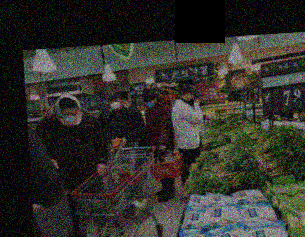with_mask: (59, 109, 79, 127), (109, 97, 121, 111), (142, 99, 155, 110), (186, 95, 195, 106), (198, 98, 206, 108)
